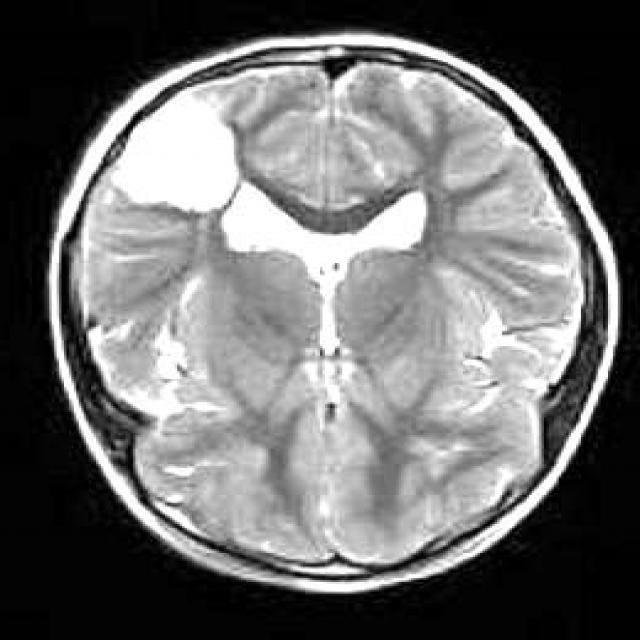tumor: (111, 101, 431, 282)
